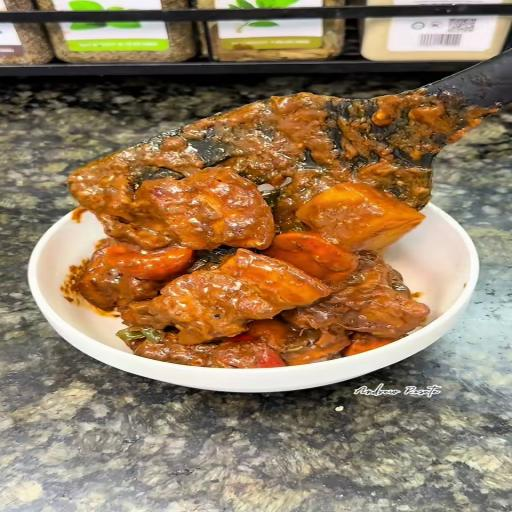pork caldereta: (57, 188, 462, 366)
